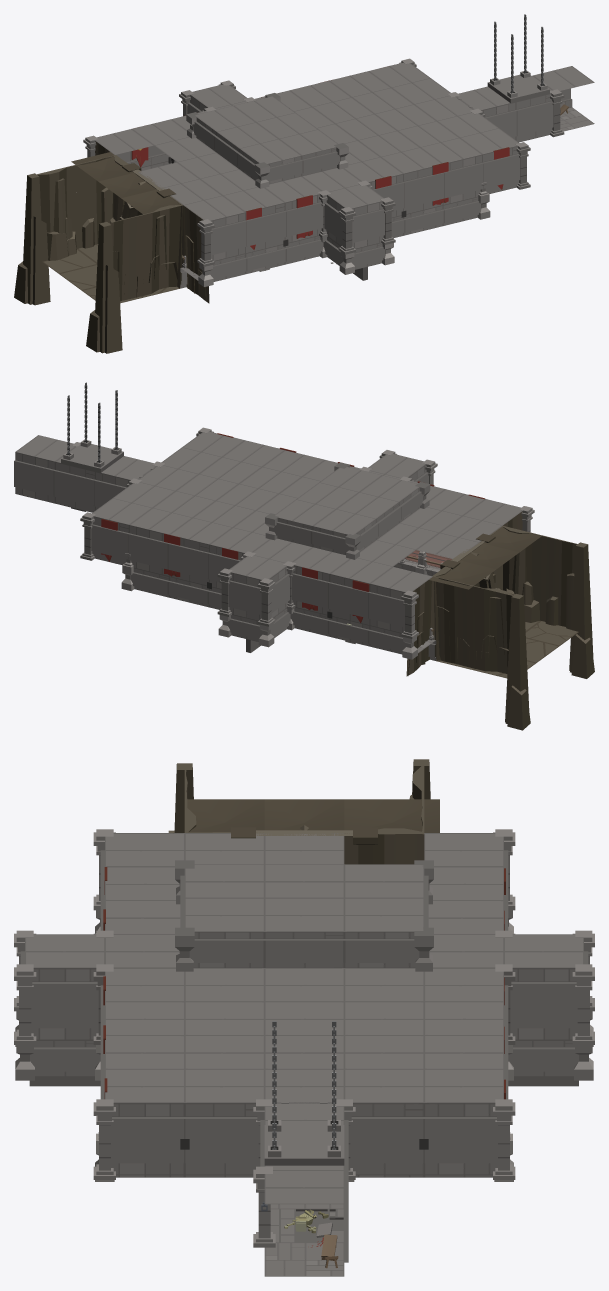
File: chamber.glb
3 renders of one model, top to bottom at view 1: azimuth 30°, elevation 25°; view 2: azimuth 150°, elevation 25°; view 3: azimuth 270°, elevation 25°, orthographic. The views are drawn at different scales.
Visible parts, largest first — view 1: SD_Env_Undead_Wall_10, SD_Env_Undead_StoneEdge_03, SD_Env_Undead_StoneEdge_01, SD_Env_Undead_Wall_13, SD_Env_Undead_Wall_12, SD_Env_Undead_Wall_11, SD_Trap_SpikeBlock_01, SD_Env_Wall_115, SD_Env_Wall_117, SD_Env_Wall_140, SD_Env_Wall_113, SD_Env_Wall_139 (+65 smaller); view 2: SD_Env_Undead_Wall_11, SD_Env_Undead_Wall_13, SD_Env_Undead_Wall_12, SD_Env_Undead_StoneEdge_01, SD_Env_Undead_StoneEdge_03, SD_Env_Undead_Wall_10, SD_Trap_SpikeBlock_01, SD_Env_Wall_110_1, SD_Env_Wall_109_1, SD_Env_Wall_114, SD_Env_Wall_116, SD_Env_Wall_137 (+66 smaller); view 3: SD_Env_Wall_109, SD_Env_Wall_108, SD_Env_Wall_111, SD_Env_Wall_110, SD_Env_Wall_130, SD_Env_Wall_131, SD_Trap_SpikeBlock_01, SD_Env_Wall_Half_47, SD_Env_Ceiling_Undead_01, SD_Env_Ceiling_Stone_97, SD_Env_Ceiling_Stone_99, SD_Env_Ceiling_Stone_115 (+57 smaller).
Boxes of the visible parts, x1,y1,x2,y2 form: SD_Env_Undead_Wall_10: (142,205,182,295); SD_Env_Undead_StoneEdge_03: (86,222,122,353); SD_Env_Undead_StoneEdge_01: (14,173,50,305); SD_Env_Undead_Wall_13: (36,165,77,260); SD_Env_Undead_Wall_12: (104,214,143,301); SD_Env_Undead_Wall_11: (76,155,114,248); SD_Trap_SpikeBlock_01: (487,14,549,102); SD_Env_Wall_115: (443,154,483,205); SD_Env_Wall_117: (403,167,444,214); SD_Env_Wall_140: (245,203,286,253); SD_Env_Wall_113: (516,93,553,142); SD_Env_Wall_139: (211,212,246,261); SD_Env_Undead_Wall_11: (433,576,475,668); SD_Env_Undead_Wall_13: (474,586,513,673); SD_Env_Undead_Wall_12: (541,535,582,629); SD_Env_Undead_StoneEdge_01: (505,594,530,730); SD_Env_Undead_StoneEdge_03: (569,542,594,678); SD_Env_Undead_Wall_10: (503,526,542,622); SD_Trap_SpikeBlock_01: (61,382,123,472); SD_Env_Wall_110_1: (54,462,95,512); SD_Env_Wall_109_1: (14,452,55,503); SD_Env_Wall_114: (128,525,169,576); SD_Env_Wall_116: (168,537,209,585); SD_Env_Wall_137: (328,574,369,625); SD_Env_Wall_109: (350,1103,424,1175); SD_Env_Wall_108: (184,1103,258,1175); SD_Env_Wall_111: (111,1103,184,1175); SD_Env_Wall_110: (424,1103,497,1175); SD_Env_Wall_130: (31,968,98,1040); SD_Env_Wall_131: (510,968,577,1040); SD_Trap_SpikeBlock_01: (264,1021,344,1165); SD_Env_Wall_Half_47: (264,932,344,967); SD_Env_Ceiling_Undead_01: (344,799,439,832); SD_Env_Ceiling_Stone_97: (184,1001,264,1035); SD_Env_Ceiling_Stone_99: (344,1001,424,1035); SD_Env_Ceiling_Stone_115: (264,864,344,898).
Size of the model in its own units: 66.97 by 22.92 by 36.4.
2 materials, 2 textured.
